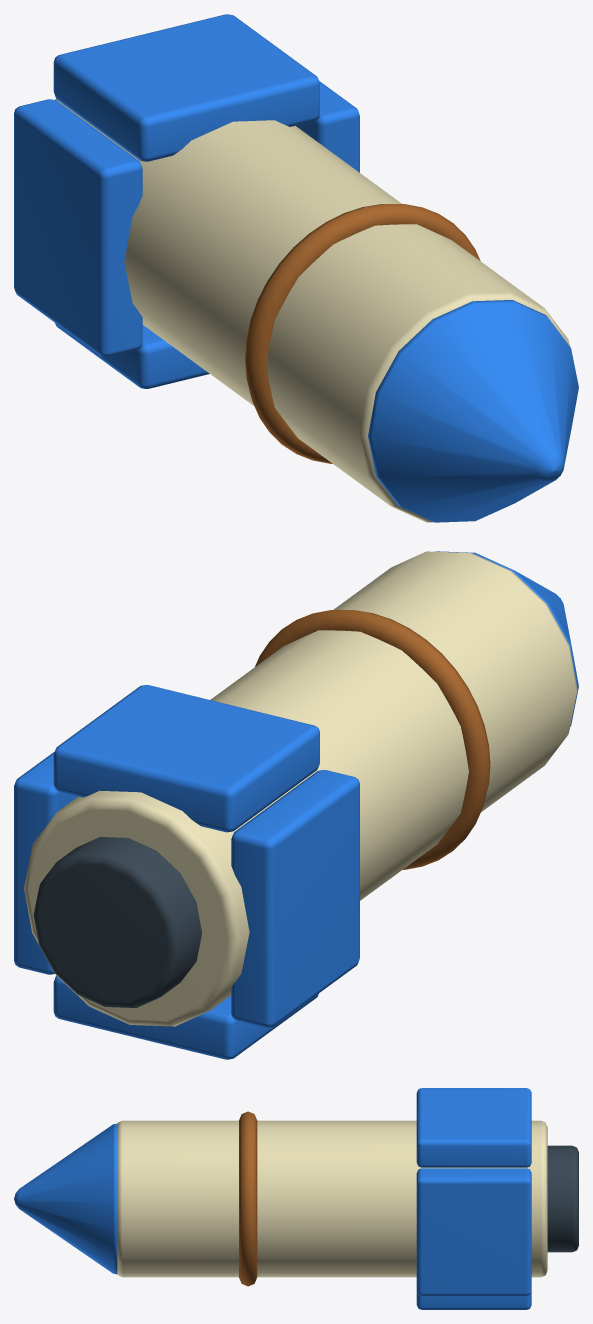
The model's file is Missile_Normal.fbx.
3 views of the same model, one above another, from view 1: azimuth 30°, elevation 25°; view 2: azimuth 150°, elevation 25°; view 3: azimuth 270°, elevation 25° (orthographic). The views are drawn at different scales.
Visible parts, largest first — view 1: Rocket body, Seeker nose, Tail stabilizer.002, Tail stabilizer.001, Identification band, Tail stabilizer.003, Tail stabilizer; view 2: Rocket body, Tail stabilizer.002, Tail stabilizer.001, Engine nozzle, Identification band, Tail stabilizer.003, Tail stabilizer, Seeker nose; view 3: Rocket body, Tail stabilizer, Tail stabilizer.001, Seeker nose, Engine nozzle, Identification band, Tail stabilizer.003.
Part boxes in pixels (x1,y1,x2,y2): Rocket body: (55,99,569,522); Seeker nose: (368,300,578,522); Tail stabilizer.002: (14,99,142,356); Tail stabilizer.001: (53,14,319,161); Identification band: (245,204,480,463); Tail stabilizer.003: (55,323,209,388); Tail stabilizer: (296,81,359,172); Rocket body: (24,551,577,1026); Tail stabilizer.002: (231,770,359,1027); Tail stabilizer.001: (53,685,319,832); Engine nozzle: (33,837,202,1007); Identification band: (255,610,490,869); Tail stabilizer.003: (53,975,318,1059); Tail stabilizer: (14,751,77,974); Seeker nose: (435,551,578,726); Rocket body: (117,1120,547,1277); Tail stabilizer: (416,1168,531,1295); Tail stabilizer.001: (416,1088,531,1167); Seeker nose: (14,1123,117,1274); Engine nozzle: (547,1145,578,1252); Identification band: (239,1111,257,1286); Tail stabilizer.003: (416,1291,531,1309).
Bounding box in the file's own units: 72 × 72 × 216.
